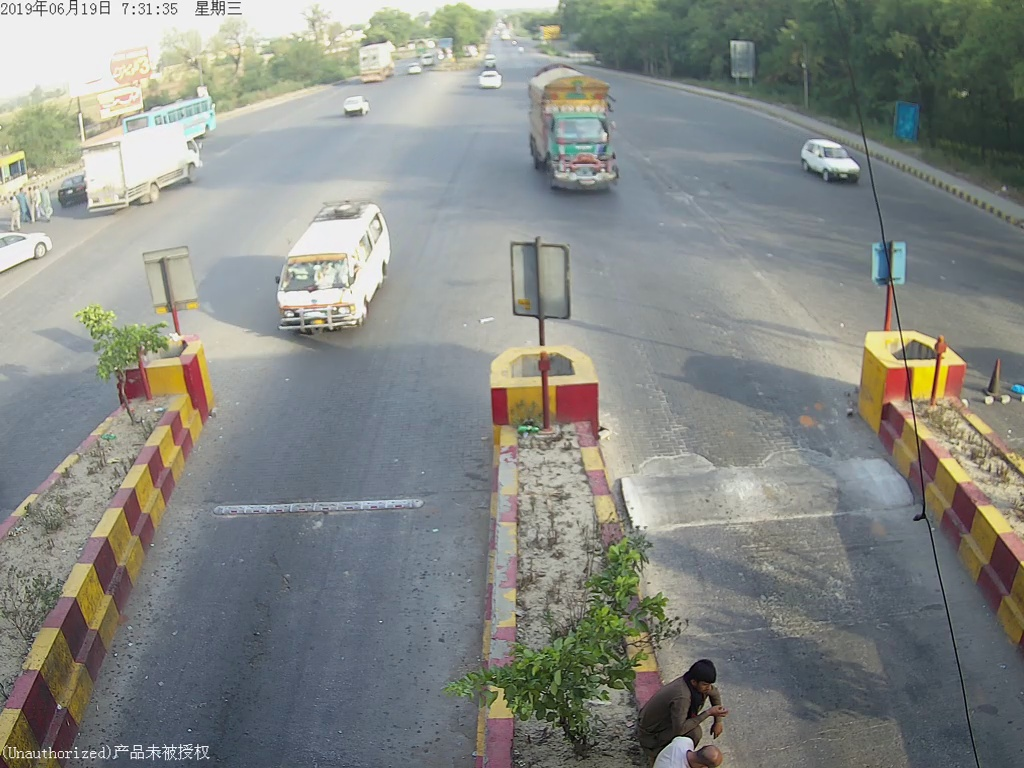Cat-2: (268, 202, 398, 341)
Cat-4: (526, 68, 629, 198)
